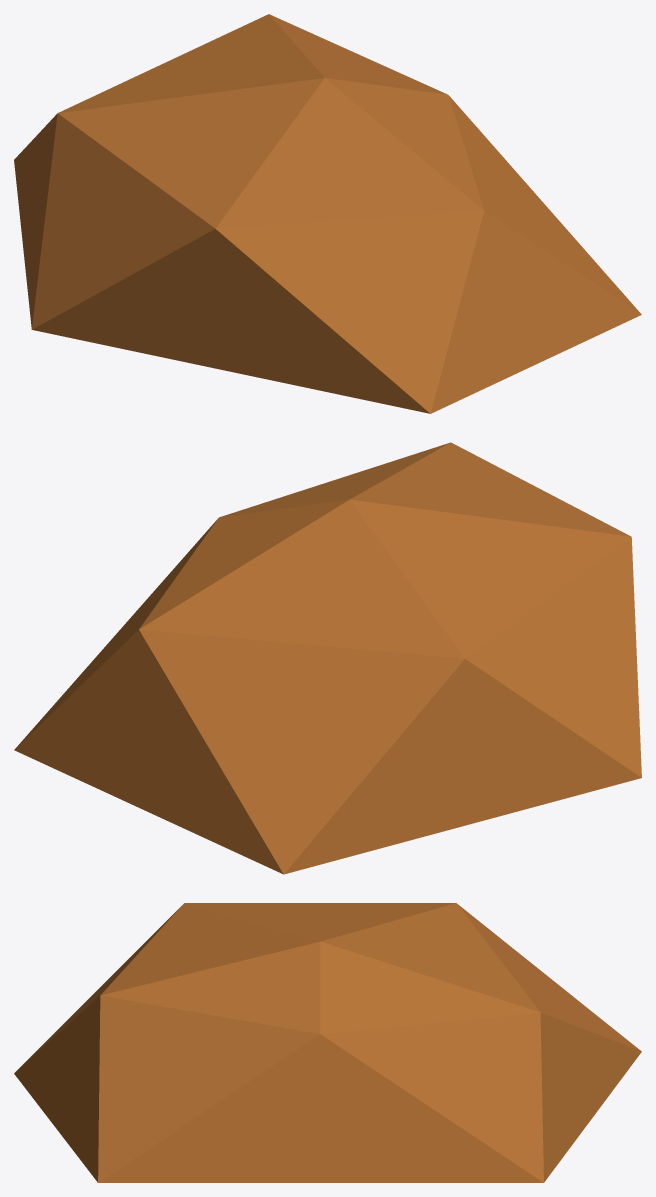
Rendered from Copper_1.glb.
3 renders of one model, top to bottom at view 1: azimuth 30°, elevation 25°; view 2: azimuth 150°, elevation 25°; view 3: azimuth 270°, elevation 25°, orthographic. The views are drawn at different scales.
Visible parts, largest first — view 1: Icosphere; view 2: Icosphere; view 3: Icosphere.
Boxes of the visible parts, x1,y1,x2,y2 form: Icosphere: (14,14,641,413); Icosphere: (14,442,641,874); Icosphere: (14,903,641,1182).
Size of the model in its own units: 1.82 by 0.6917 by 2.43.
